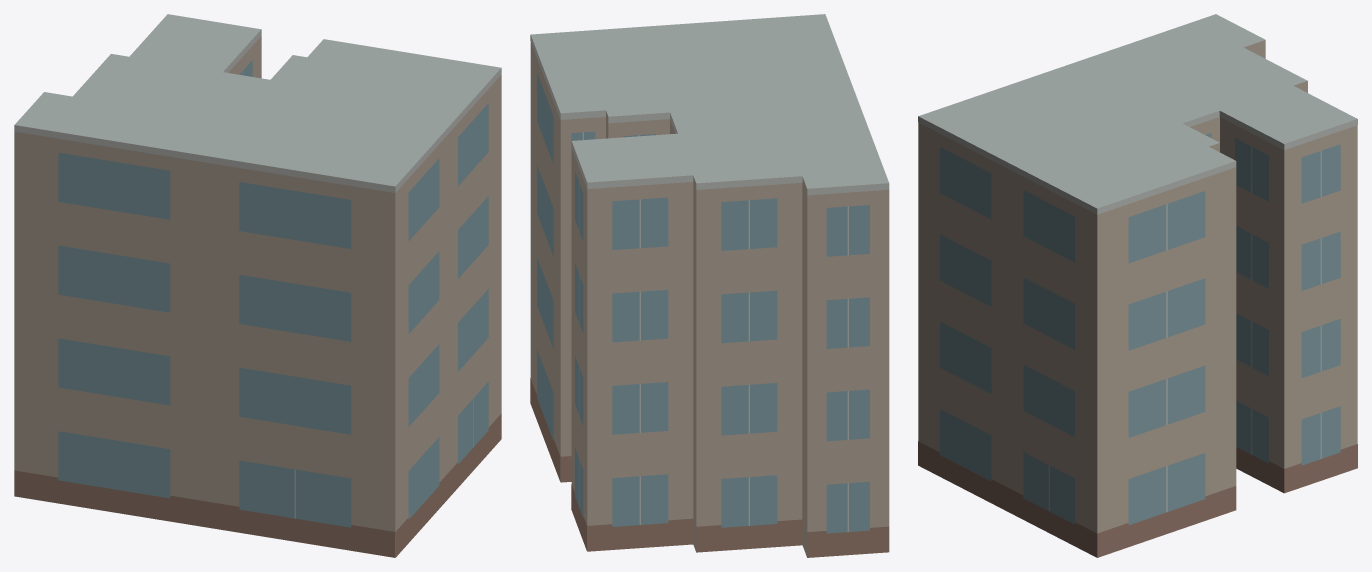
The model's file is survey-upis-32971200.glb.
3 views of the same model, side by side, from view 1: azimuth 30°, elevation 25°; view 2: azimuth 150°, elevation 25°; view 3: azimuth 270°, elevation 25° (orthographic). The views are drawn at different scales.
Visible parts, largest first — view 1: survey-upis-32971200.tmp; view 2: survey-upis-32971200.tmp; view 3: survey-upis-32971200.tmp.
Part boxes in pixels (x1,y1,x2,y2): survey-upis-32971200.tmp: [14, 14, 501, 557]; survey-upis-32971200.tmp: [530, 14, 889, 557]; survey-upis-32971200.tmp: [918, 14, 1357, 557].
Bounding box in the file's own units: 16.5 × 13.8 × 15.75.
